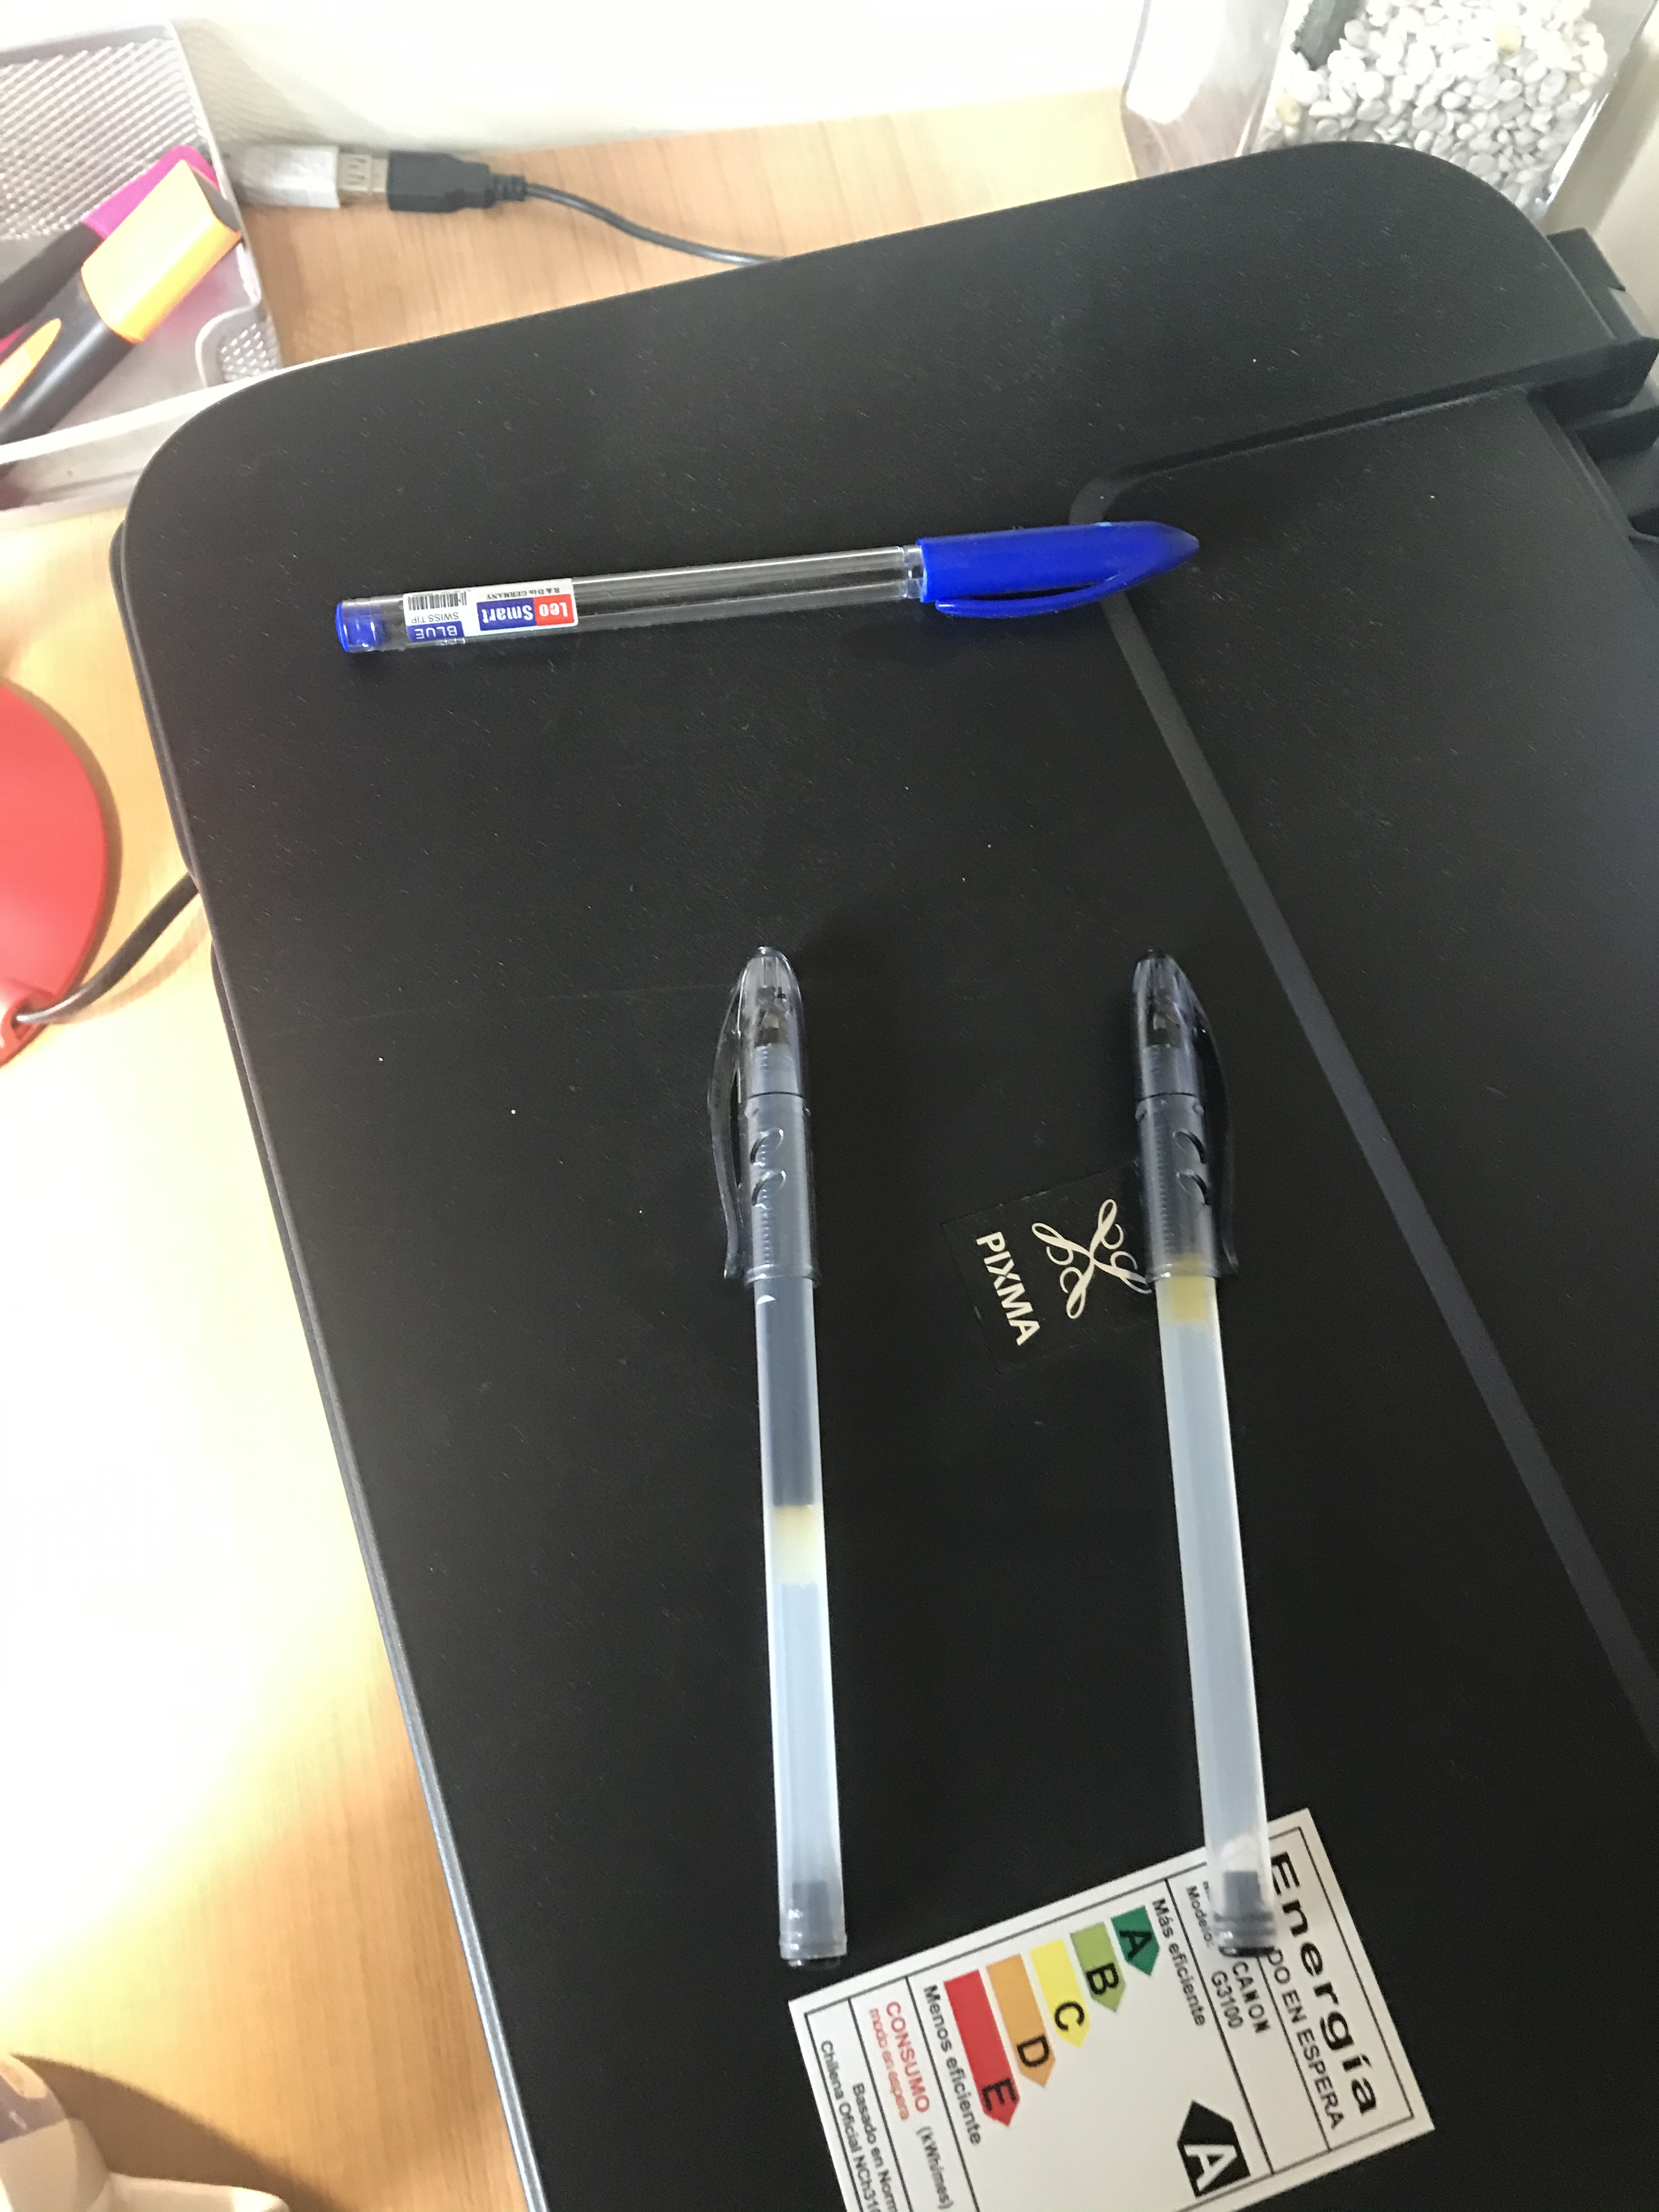lapiz: (697, 916, 866, 1977), (1127, 944, 1298, 1968), (321, 498, 1220, 672)
